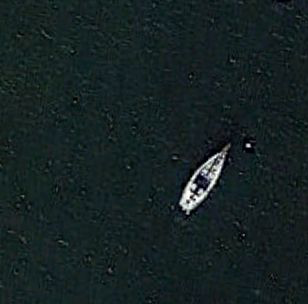boat: (177, 141, 235, 216)
